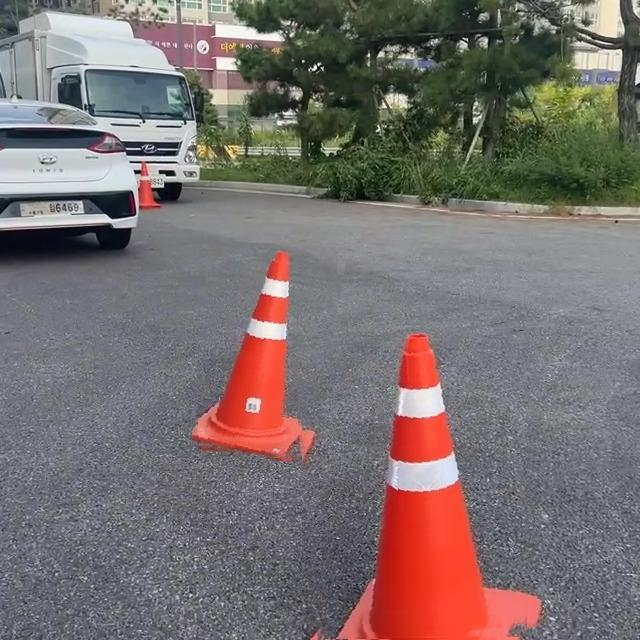fallen_object: (306, 310, 483, 640), (146, 210, 325, 469), (109, 120, 189, 248)
